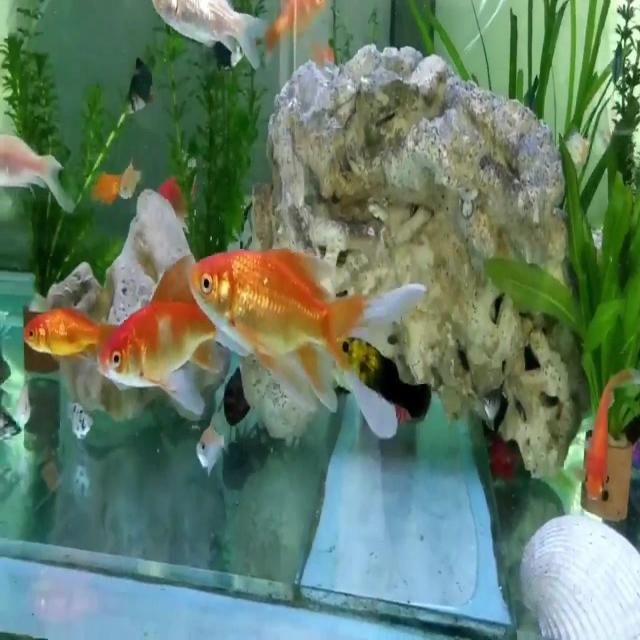GoldFish: (182, 233, 426, 447), (102, 247, 266, 424), (18, 300, 113, 366)
